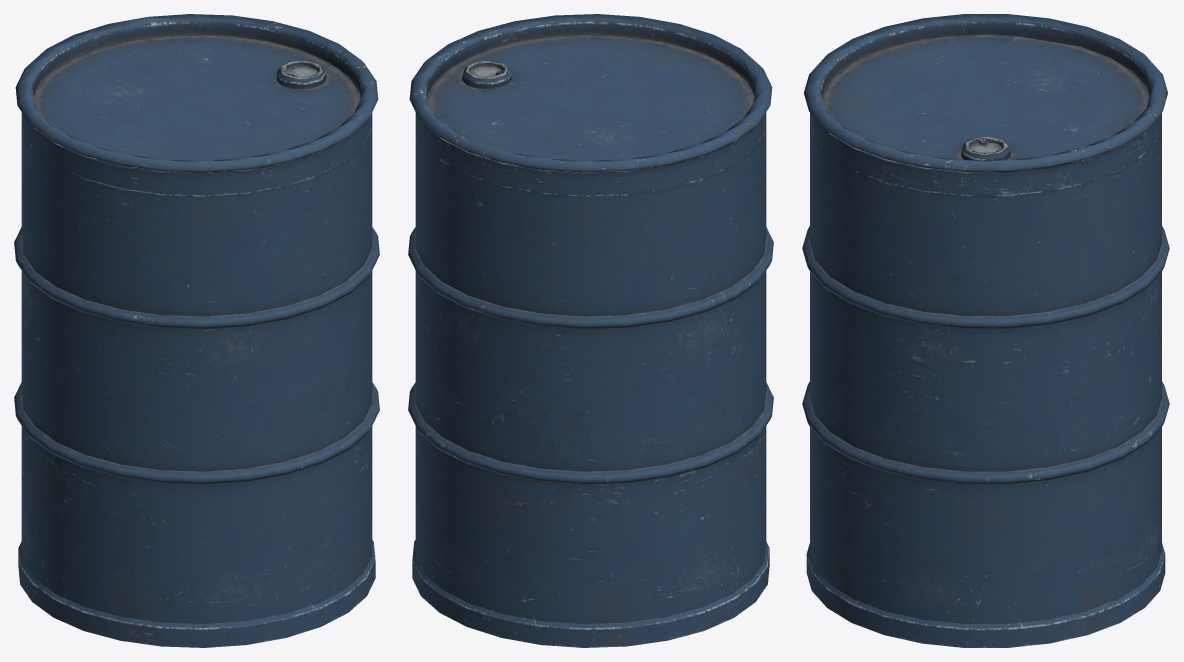
File: ph_barrel_03.glb
The picture shows the model from 3 angles, left to right: view 1: azimuth 30°, elevation 25°; view 2: azimuth 150°, elevation 25°; view 3: azimuth 270°, elevation 25°; orthographic projection.
Parts seen in each view (by area): view 1: barrel_03; view 2: barrel_03; view 3: barrel_03.
Boxes of the visible parts, x1=… form: barrel_03: x1=14, y1=14, x2=379, y2=647; barrel_03: x1=408, y1=14, x2=773, y2=647; barrel_03: x1=802, y1=14, x2=1169, y2=647.
Bounding box in the file's own units: 0.634 × 0.9305 × 0.6386.
1 material, 1 textured.
